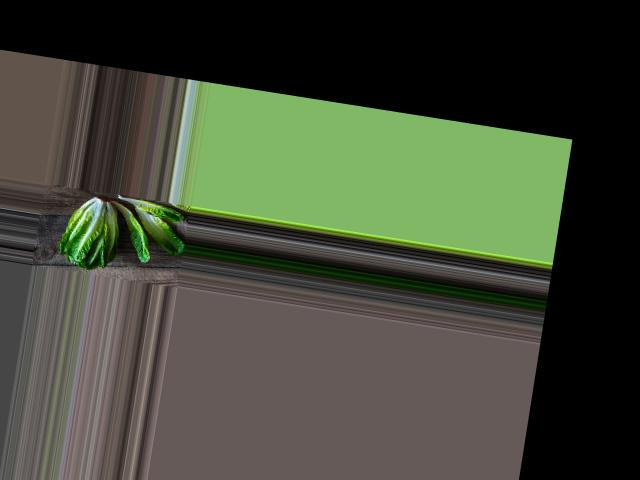lettuce: (53, 193, 127, 273)
